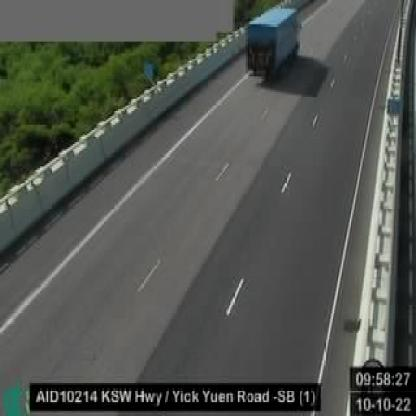Truck: (244, 8, 301, 82)
